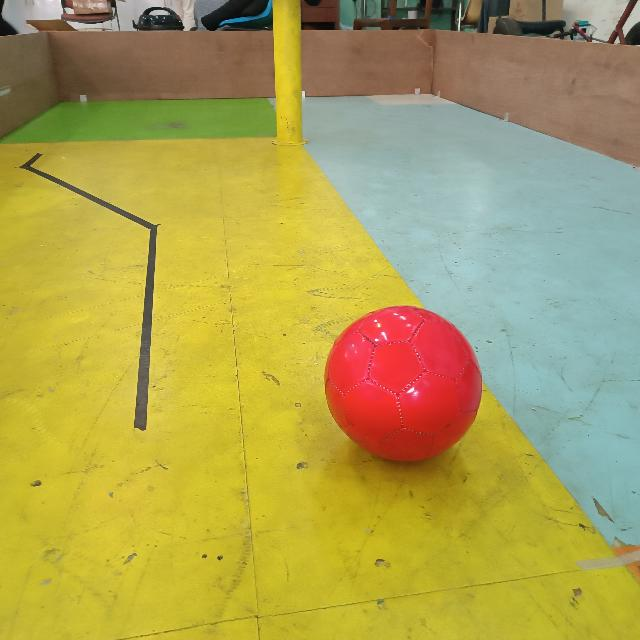R: (320, 302, 486, 468)
